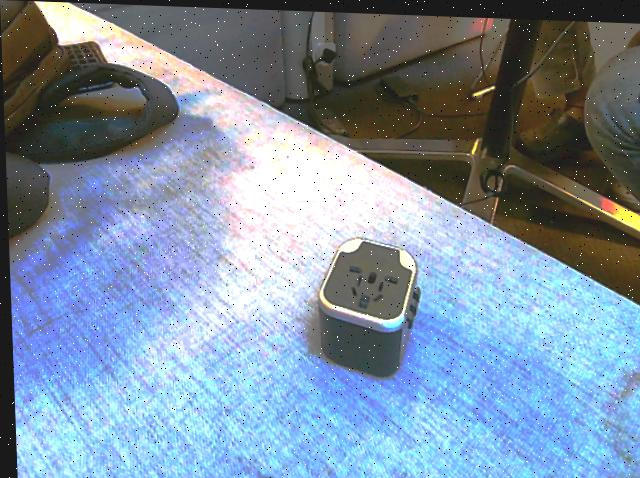adapter: (312, 233, 421, 375)
